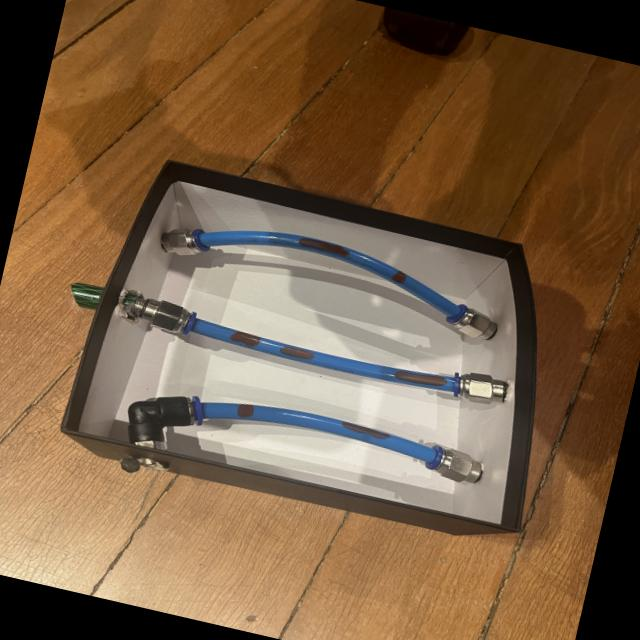hose_damage: (296, 233, 352, 260), (338, 418, 393, 442), (391, 367, 447, 389), (226, 326, 264, 349), (276, 344, 318, 362), (232, 401, 258, 422), (387, 267, 411, 287)
